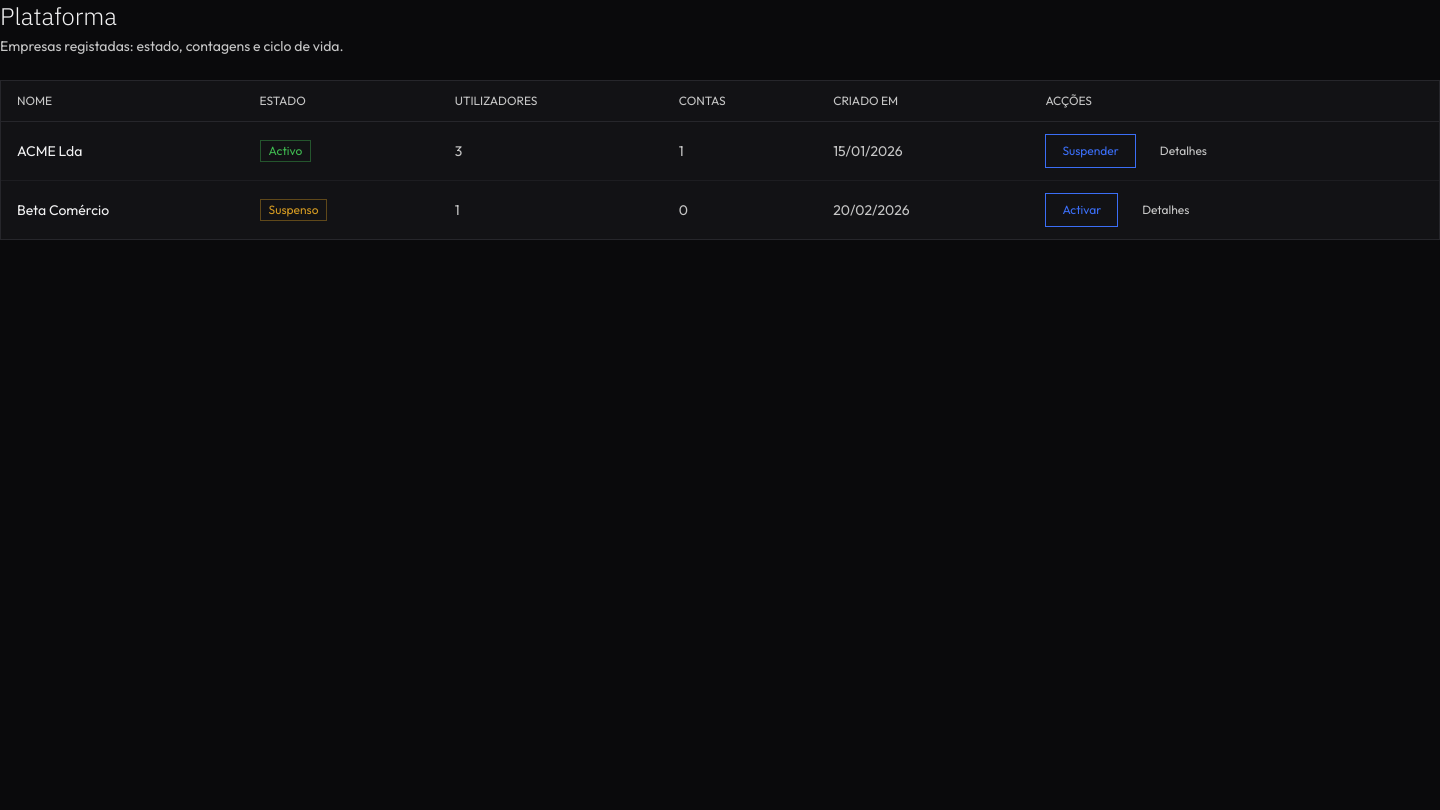
Scenario: PlatformPage › cancelar no modal não faz nenhum POST
Expected: the text "ACME Lda" is shown, [1,122,244,180]
Click the button with aria-label "Suspender ACME Lda": (1091, 151) [1045,134,1136,168]
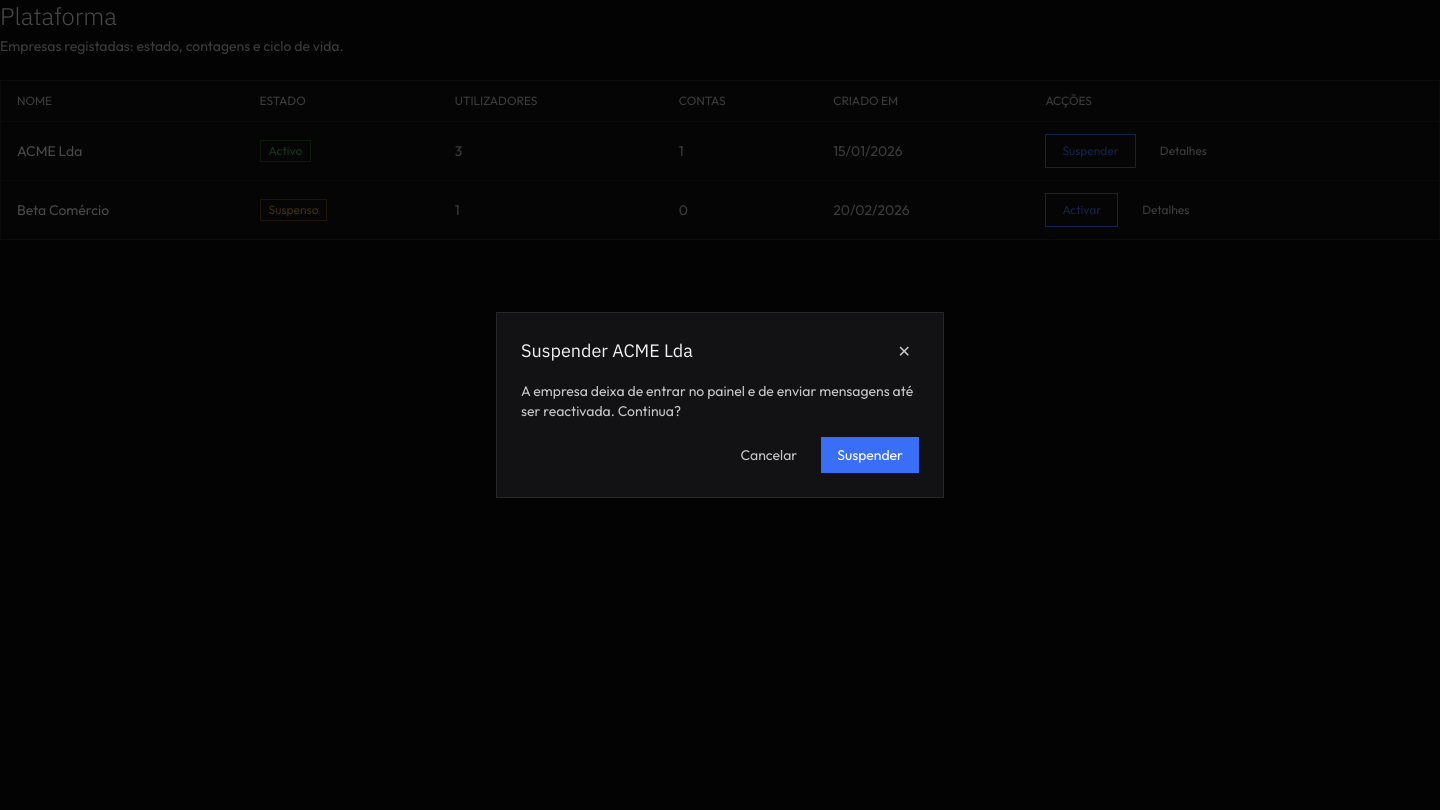
Click the button "Cancelar": (769, 455) [725,437,813,473]
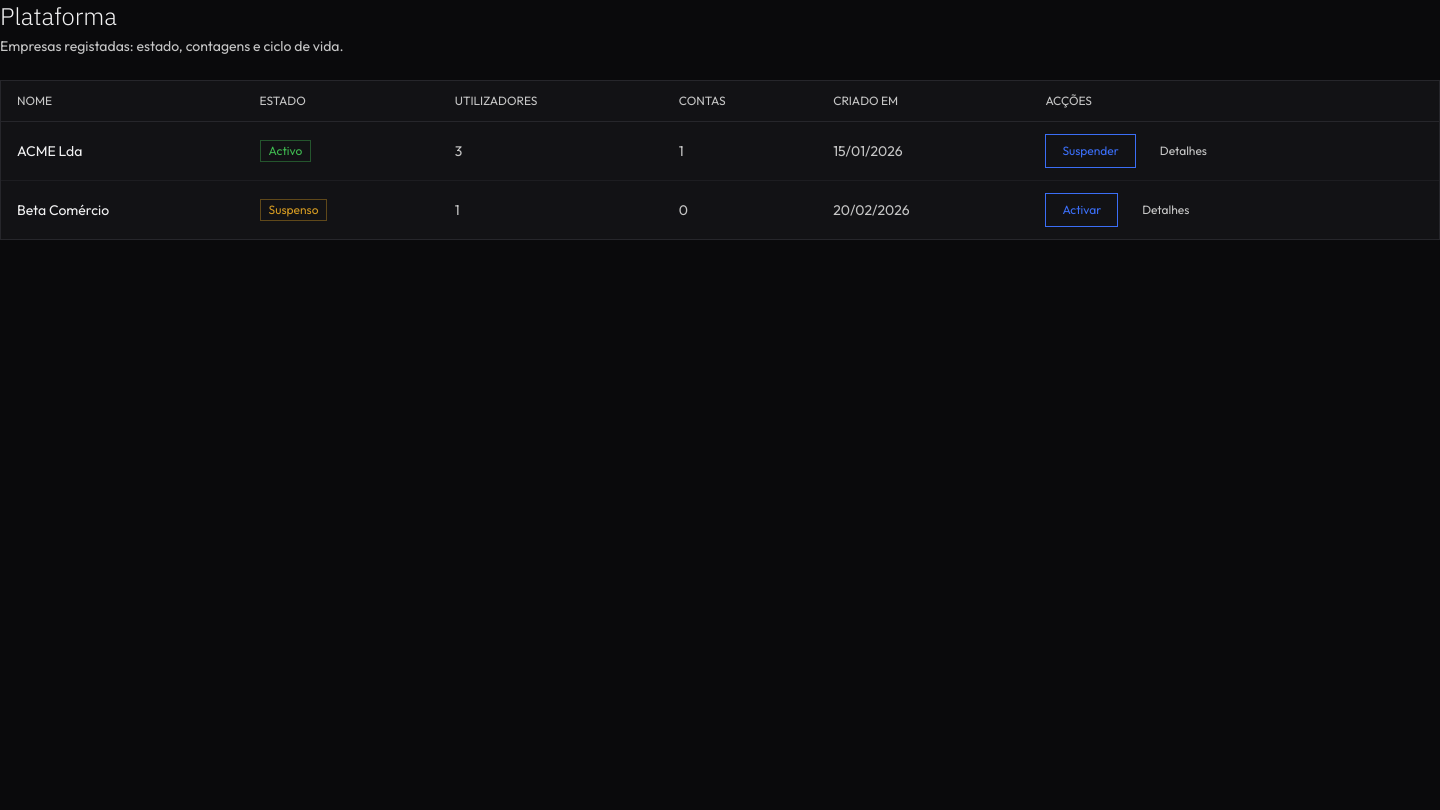
Now the dialog is gone
